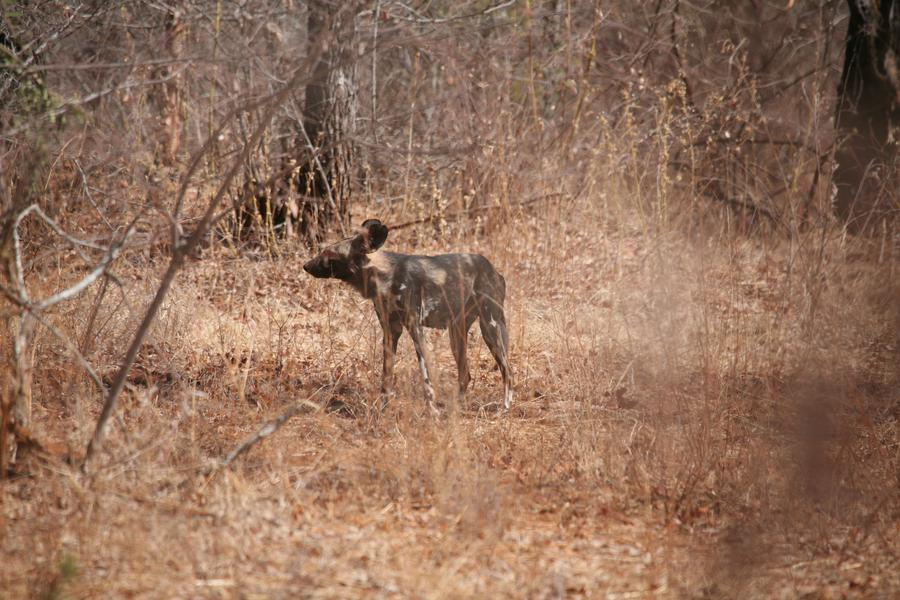wilddog: (312, 215, 517, 396)
